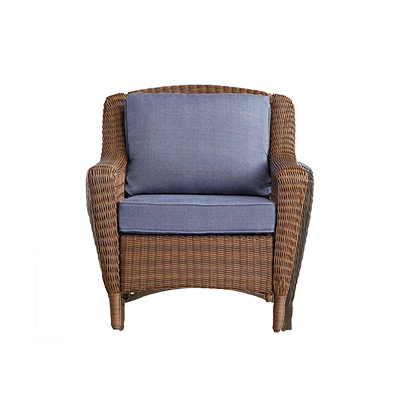chairs: (84, 82, 316, 335)
